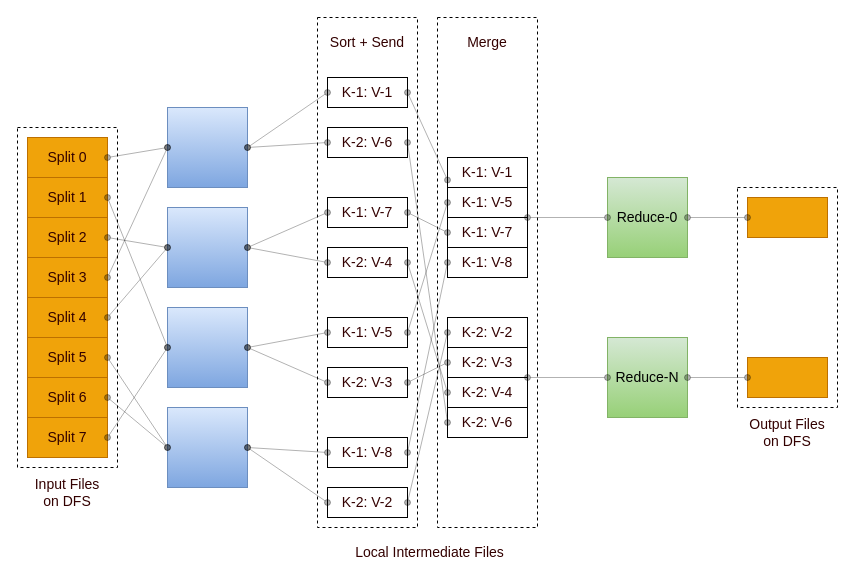
Some shapes in this 855 by 585 pixel diagram are drawn without their labels. The shapes that lost their labels are listed below. From the top down, each one's centre as x and y in pixels, then its label:
the point at 207,147: Map-0
the point at 787,217: Part 0
the point at 207,247: Map-1
the point at 207,347: Map-i
the point at 787,377: Part N
the point at 207,447: Map-M
